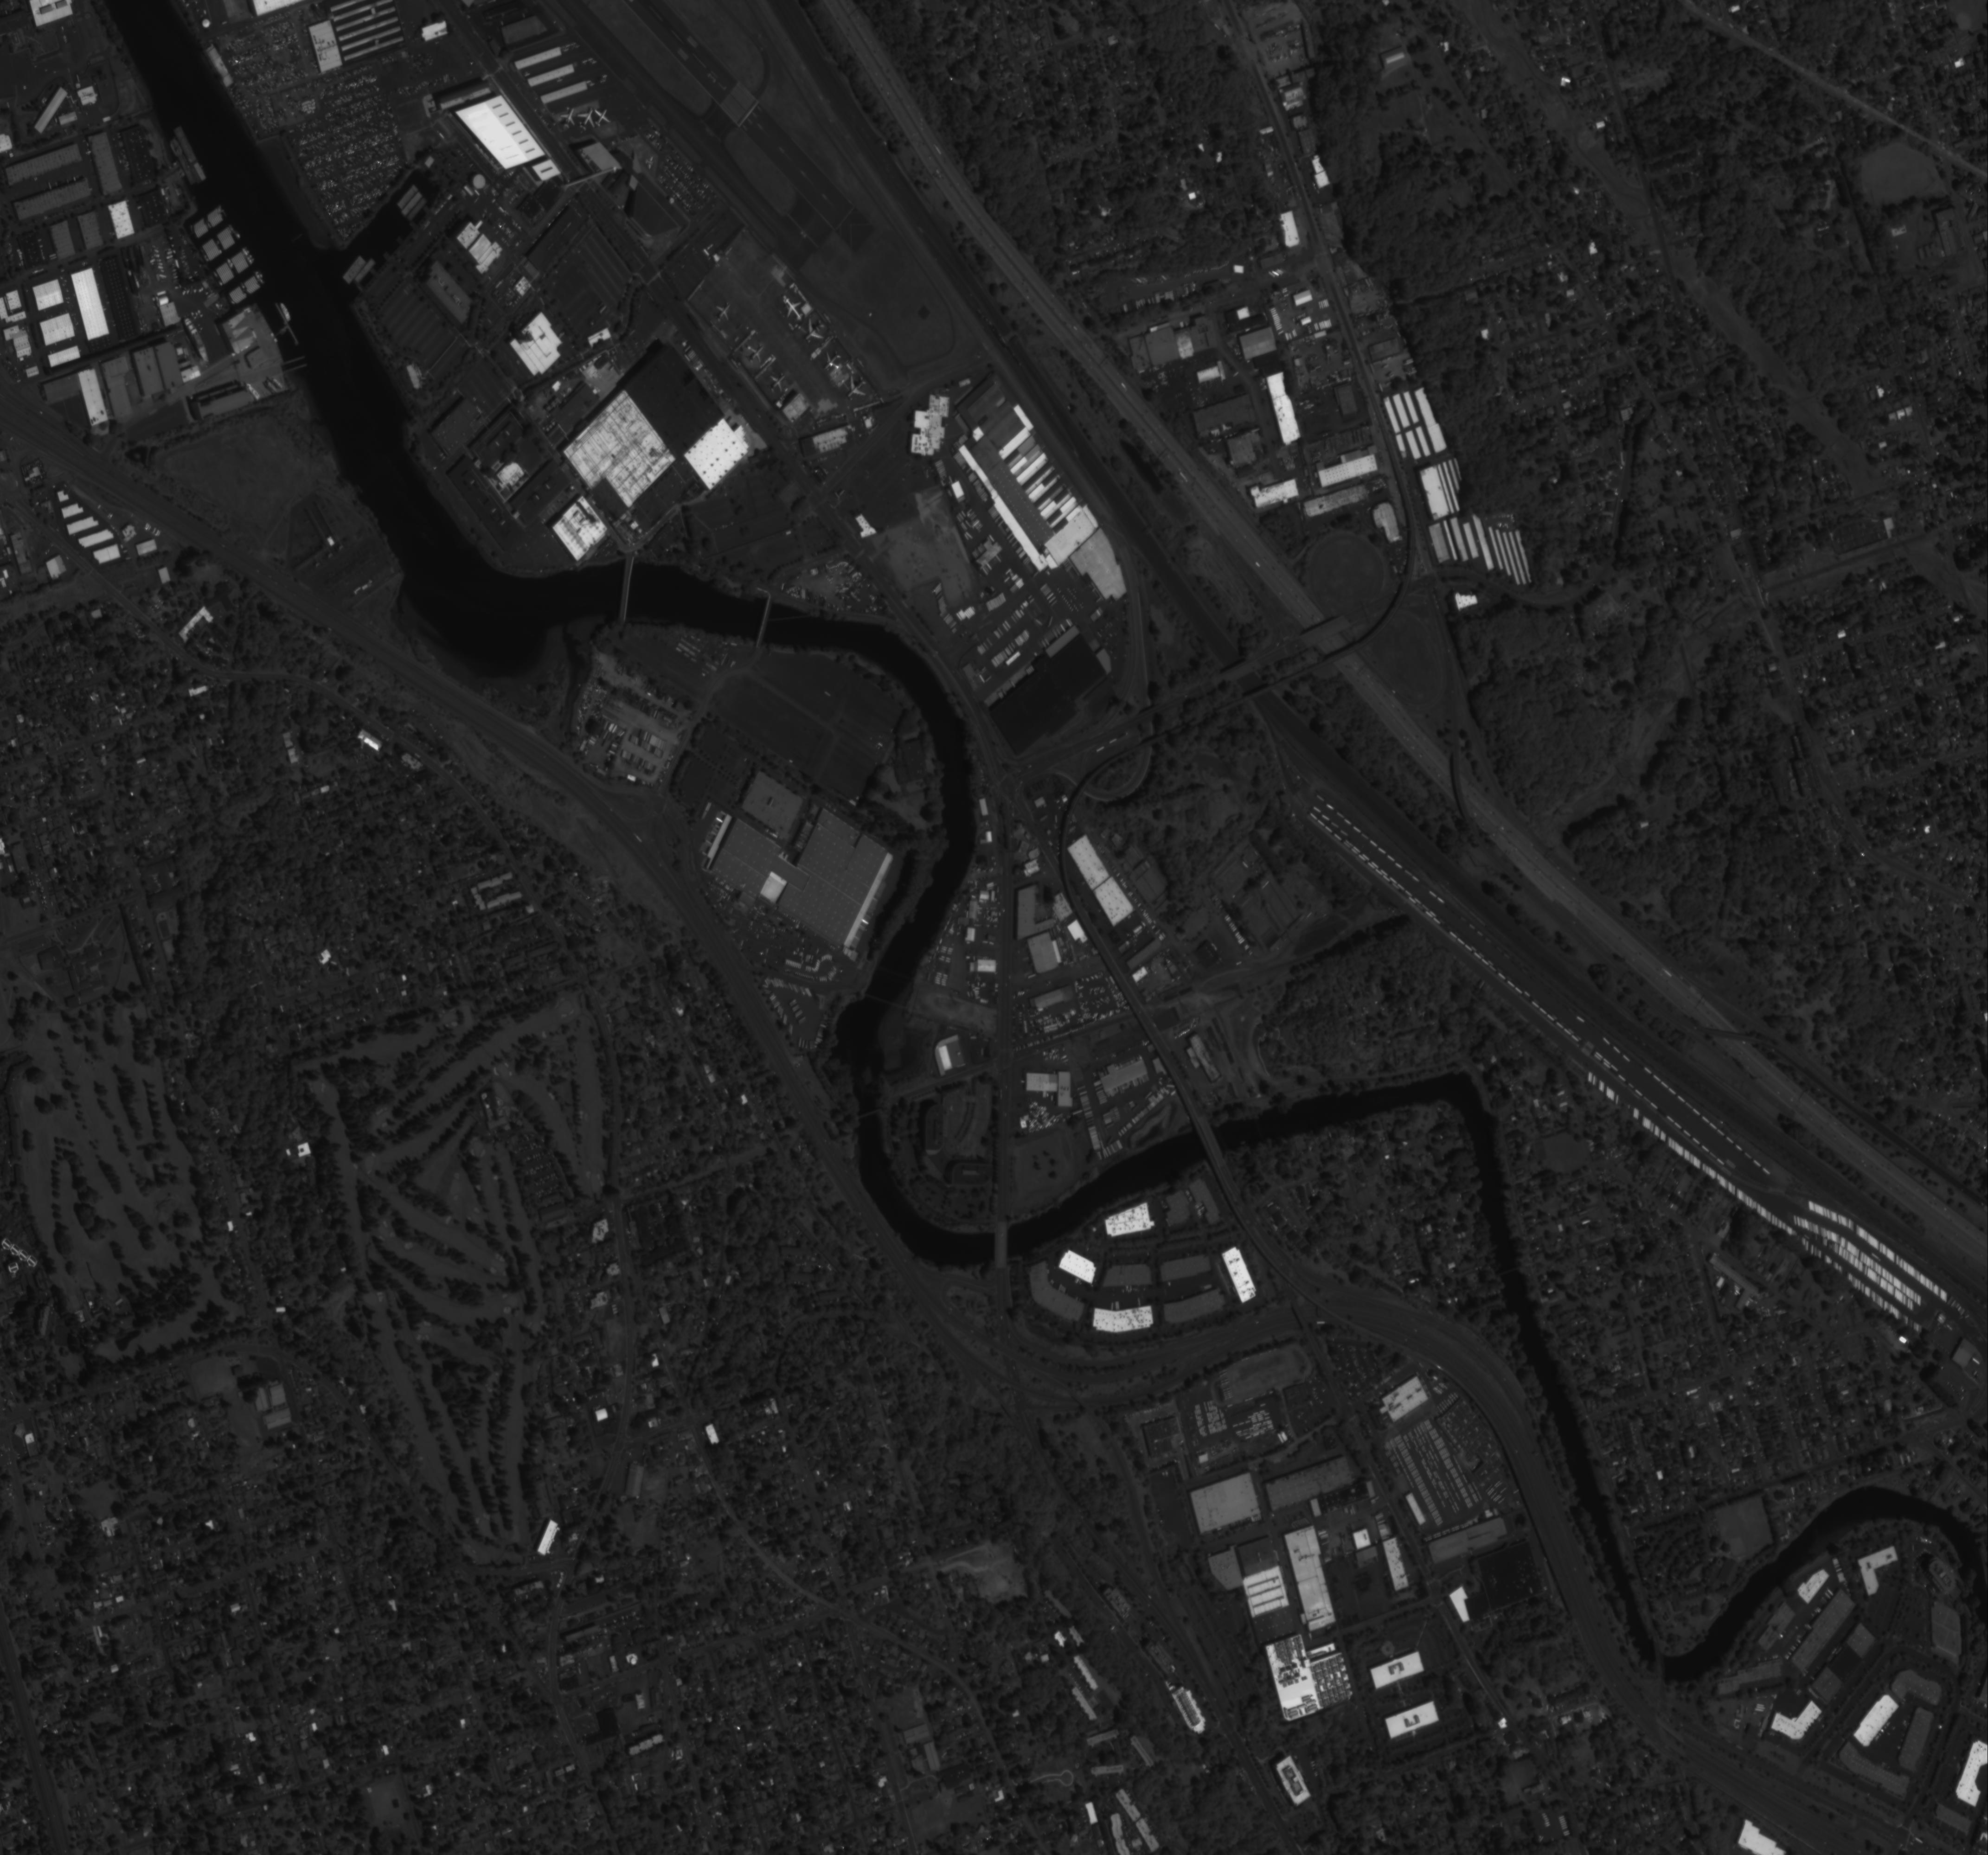harbor: (261, 298, 301, 353)
plane: (776, 290, 812, 330), (796, 313, 832, 351), (839, 371, 873, 407), (817, 347, 847, 377), (711, 297, 735, 327), (589, 103, 616, 130), (765, 371, 792, 397), (574, 106, 601, 131), (745, 340, 768, 369), (562, 104, 580, 128)
ship: (281, 301, 293, 321)
